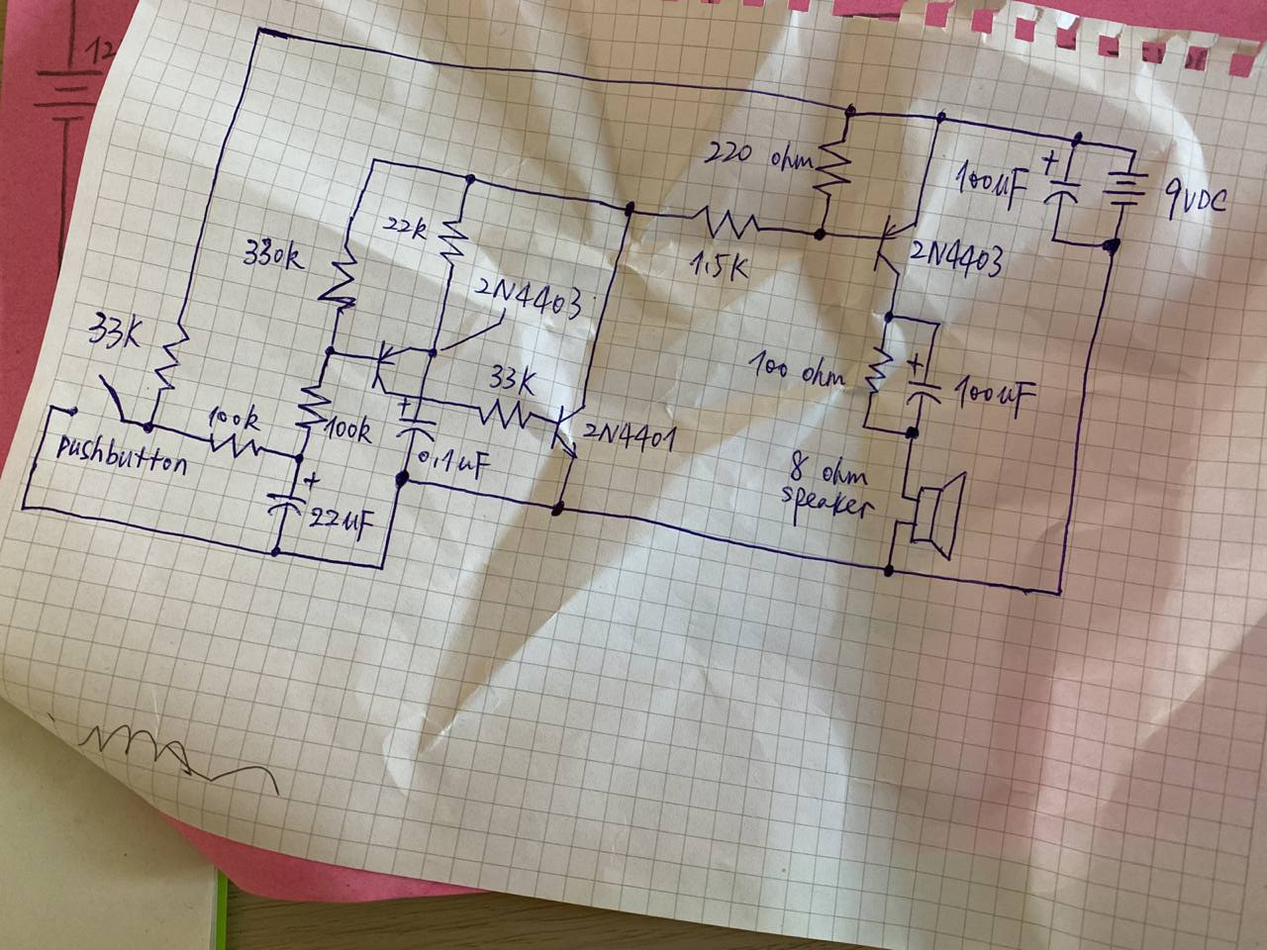capacitor.polarized: (264, 471, 322, 518), (901, 353, 946, 411), (1038, 149, 1083, 206), (393, 398, 439, 446)
crossover: (415, 392, 428, 404)
junction: (1101, 236, 1122, 255), (393, 469, 411, 488), (840, 102, 858, 121), (320, 341, 339, 359), (621, 199, 638, 219), (461, 169, 479, 187), (549, 500, 566, 518), (904, 424, 921, 442), (811, 225, 828, 242), (880, 308, 897, 325), (140, 417, 157, 434), (267, 544, 283, 560), (880, 563, 896, 579), (291, 449, 307, 465), (931, 110, 947, 125), (425, 344, 440, 360), (1069, 132, 1085, 147), (252, 22, 267, 37), (44, 401, 59, 416), (367, 153, 381, 167), (896, 489, 909, 503), (931, 318, 944, 331), (858, 420, 871, 433), (1126, 145, 1140, 157), (374, 561, 387, 573), (17, 502, 30, 514), (1053, 587, 1065, 599), (1047, 234, 1059, 244), (891, 517, 902, 527)
resistor: (315, 244, 361, 315), (690, 202, 762, 242), (810, 137, 854, 201), (153, 321, 190, 394), (475, 394, 536, 433), (292, 381, 333, 431), (204, 428, 263, 460), (436, 217, 469, 268), (862, 344, 894, 396)
speaker: (908, 469, 967, 563)
switch: (68, 371, 131, 426)
text: (54, 431, 191, 482), (475, 274, 586, 321), (744, 347, 847, 397), (910, 237, 1007, 280), (951, 158, 1025, 213), (953, 374, 1037, 421), (1158, 175, 1235, 226), (777, 482, 874, 522), (702, 139, 816, 173), (585, 419, 679, 455), (79, 306, 146, 353), (417, 443, 492, 481), (789, 452, 868, 488), (307, 503, 376, 540), (242, 235, 305, 272), (687, 247, 751, 283), (487, 361, 536, 396), (323, 412, 373, 445), (380, 212, 430, 243), (208, 404, 259, 430)
transistor.bjt: (871, 213, 917, 279), (547, 401, 586, 460), (368, 338, 408, 394)
voltage.battery: (1100, 167, 1151, 209)
